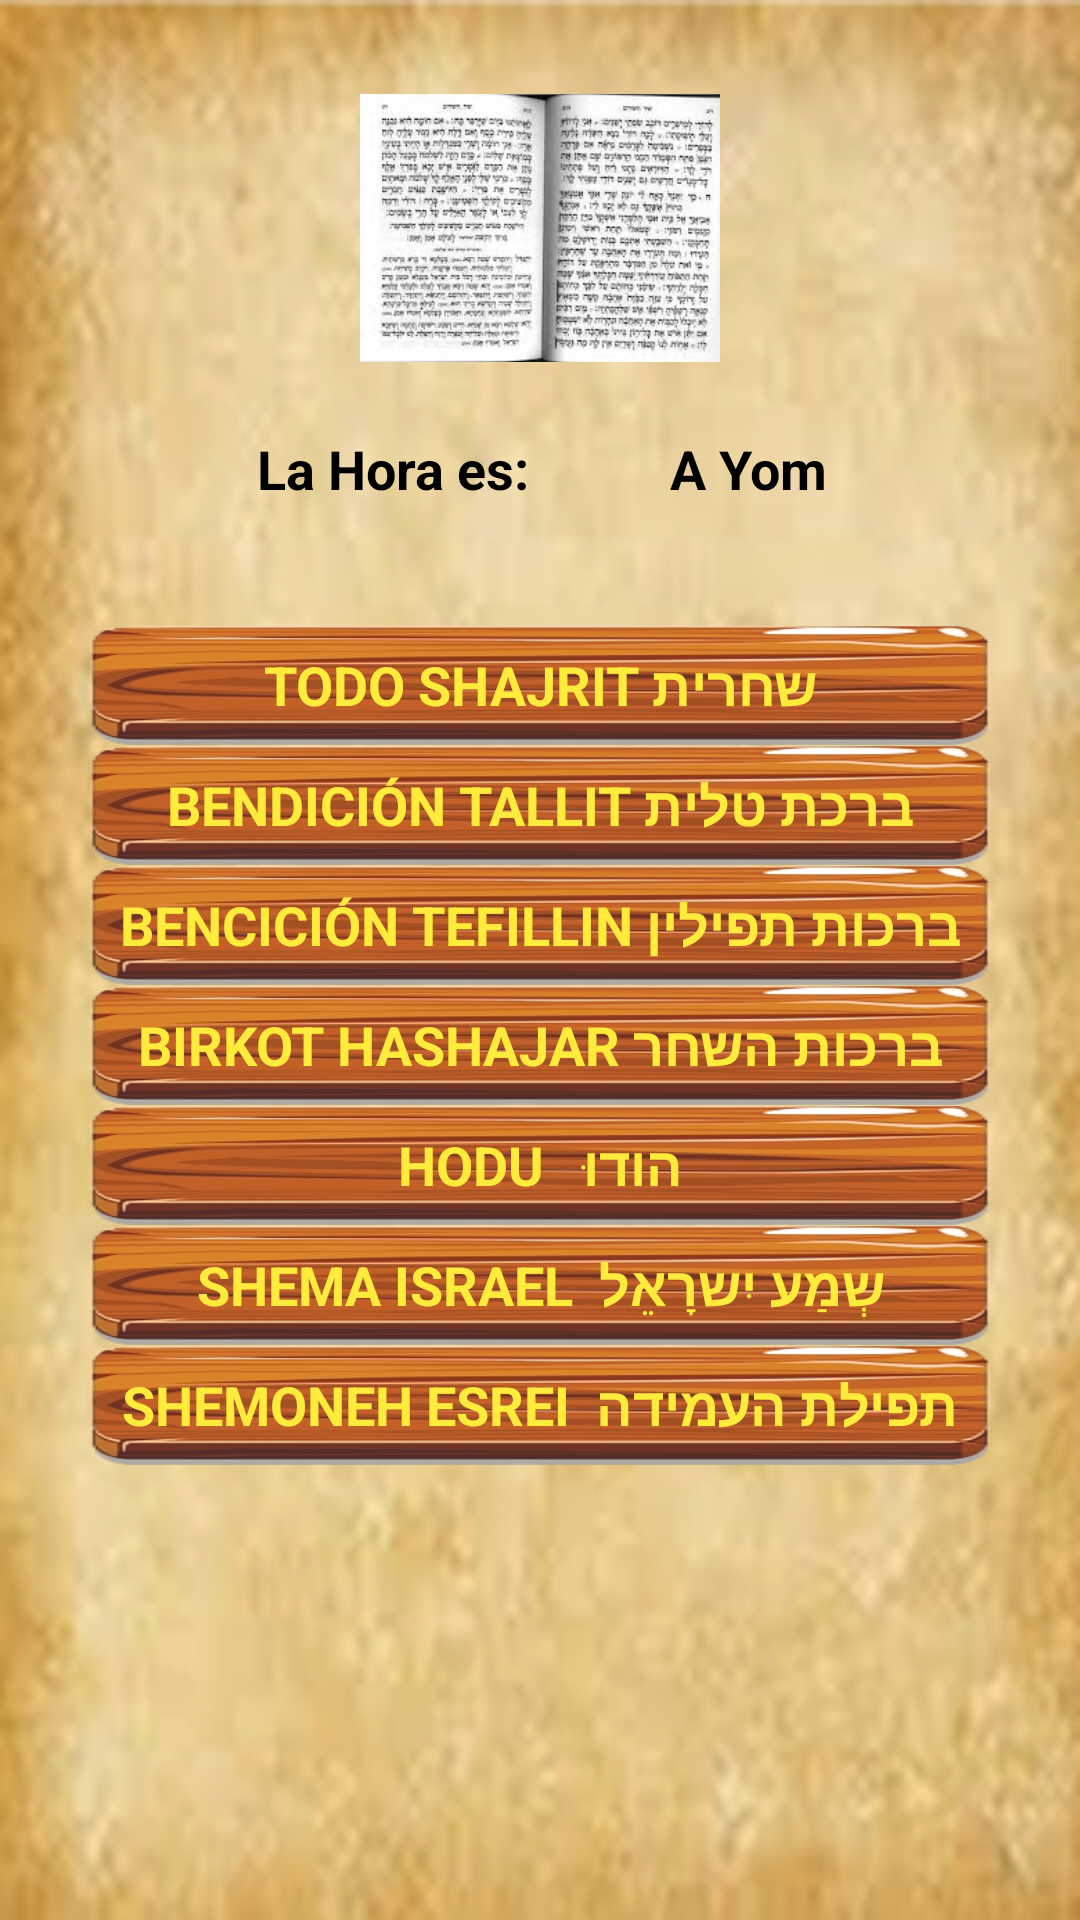

Icon click points for this 1080w x 1920h phone screenshot, format (x,y):
imagensidur: (540,228)
